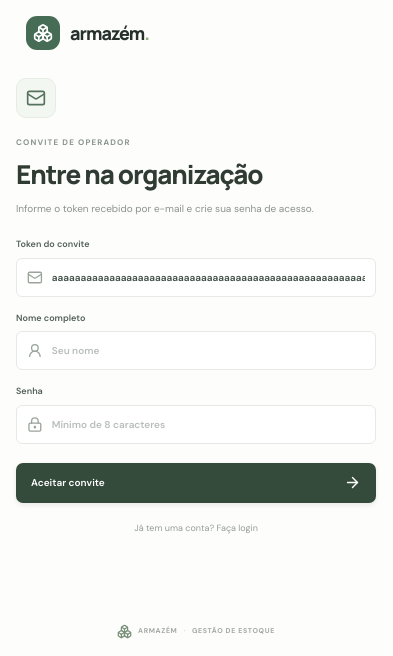
AcceptInvitationView › preenche o token da query, envia o contrato da API e mostra sucesso
In the field labelled "Nome completo": coordinates (208, 350) [52,343,365,358], type "Pessoa convidada"
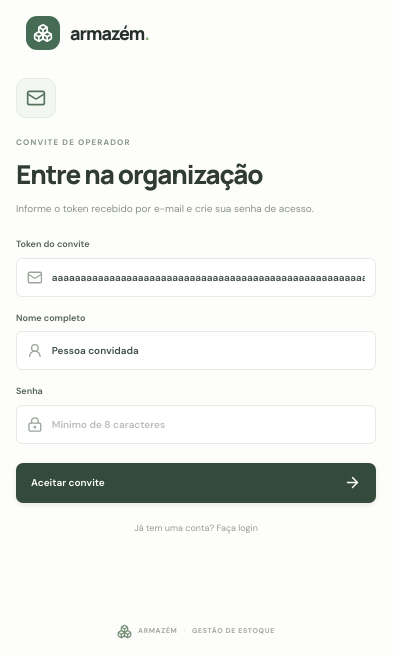
In the password field labelled "Senha": coordinates (208, 424) [52,416,365,432], type "senha-segura-123"
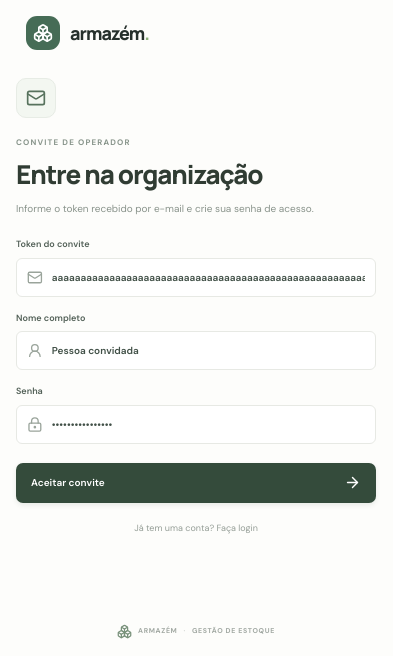
Submit the form, box [16,238,376,502]
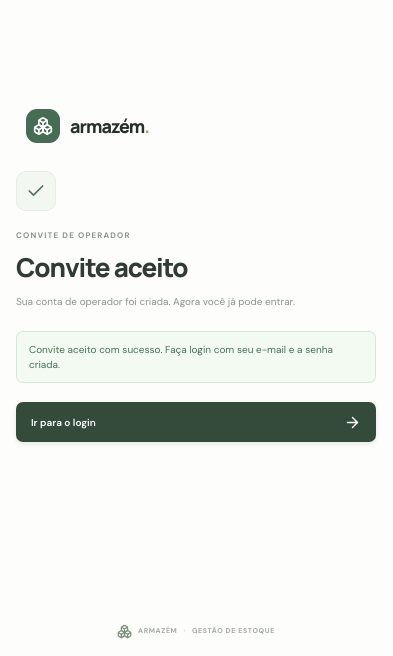
Now the text "Convite aceito com sucesso" is shown, box [29,343,333,371]
